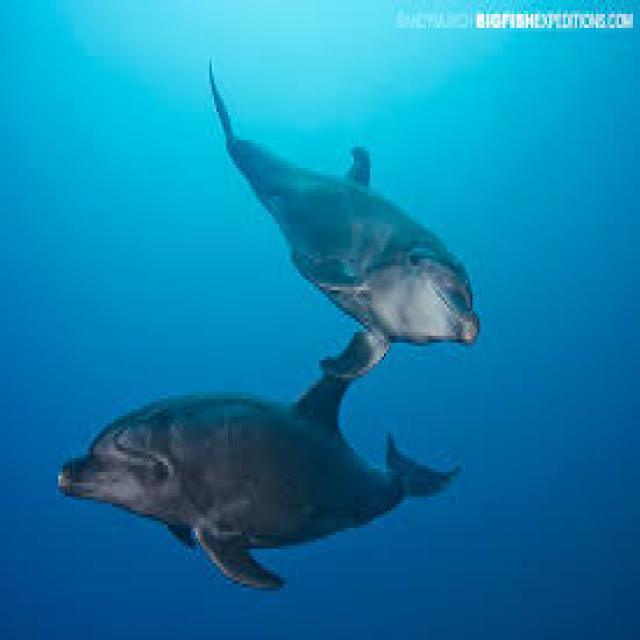blue_whale: (37, 360, 470, 612), (177, 63, 507, 371)
